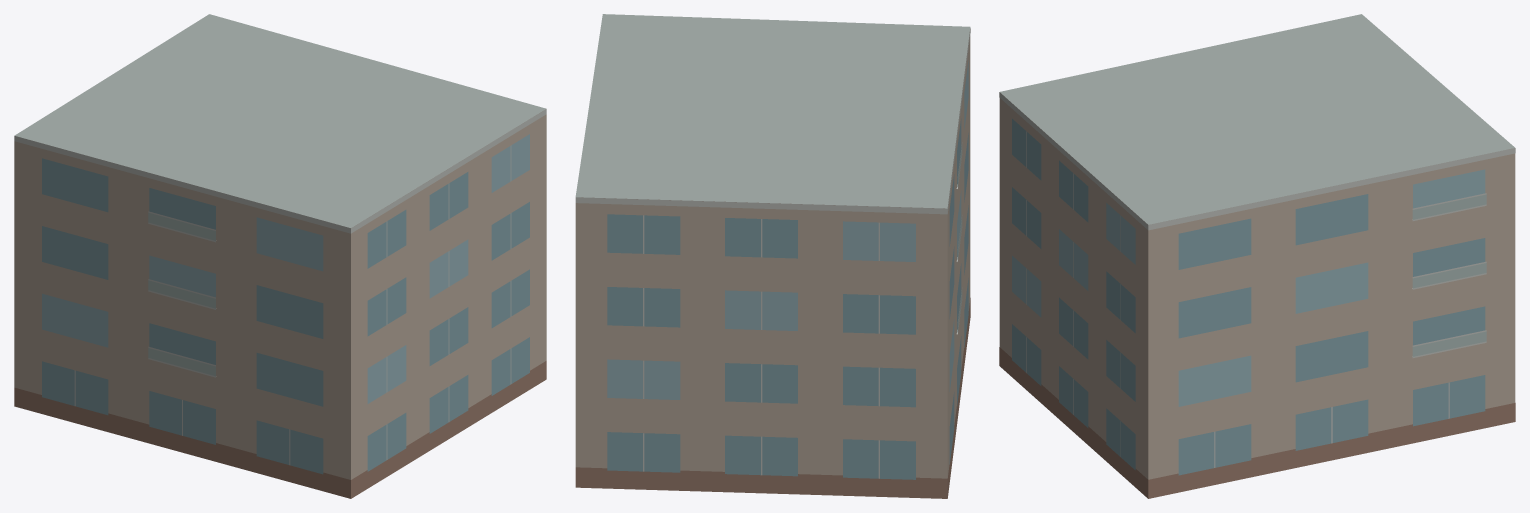
File: survey-upis-32747982.glb
3 views of the same model, side by side, from view 1: azimuth 30°, elevation 25°; view 2: azimuth 150°, elevation 25°; view 3: azimuth 270°, elevation 25° (orthographic). The views are drawn at different scales.
Visible parts, largest first — view 1: survey-upis-32747982.tmp; view 2: survey-upis-32747982.tmp; view 3: survey-upis-32747982.tmp.
Part boxes in pixels (bbox=[...]): survey-upis-32747982.tmp: bbox=[14, 14, 546, 498]; survey-upis-32747982.tmp: bbox=[575, 14, 970, 498]; survey-upis-32747982.tmp: bbox=[999, 14, 1515, 498].
Size of the model in its own units: 19.98 by 12.1 by 20.66.
